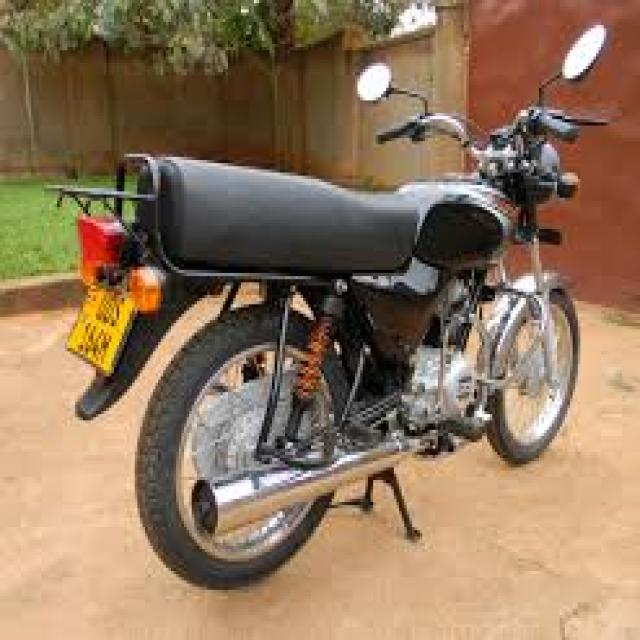bodaboda: (45, 4, 629, 603)
